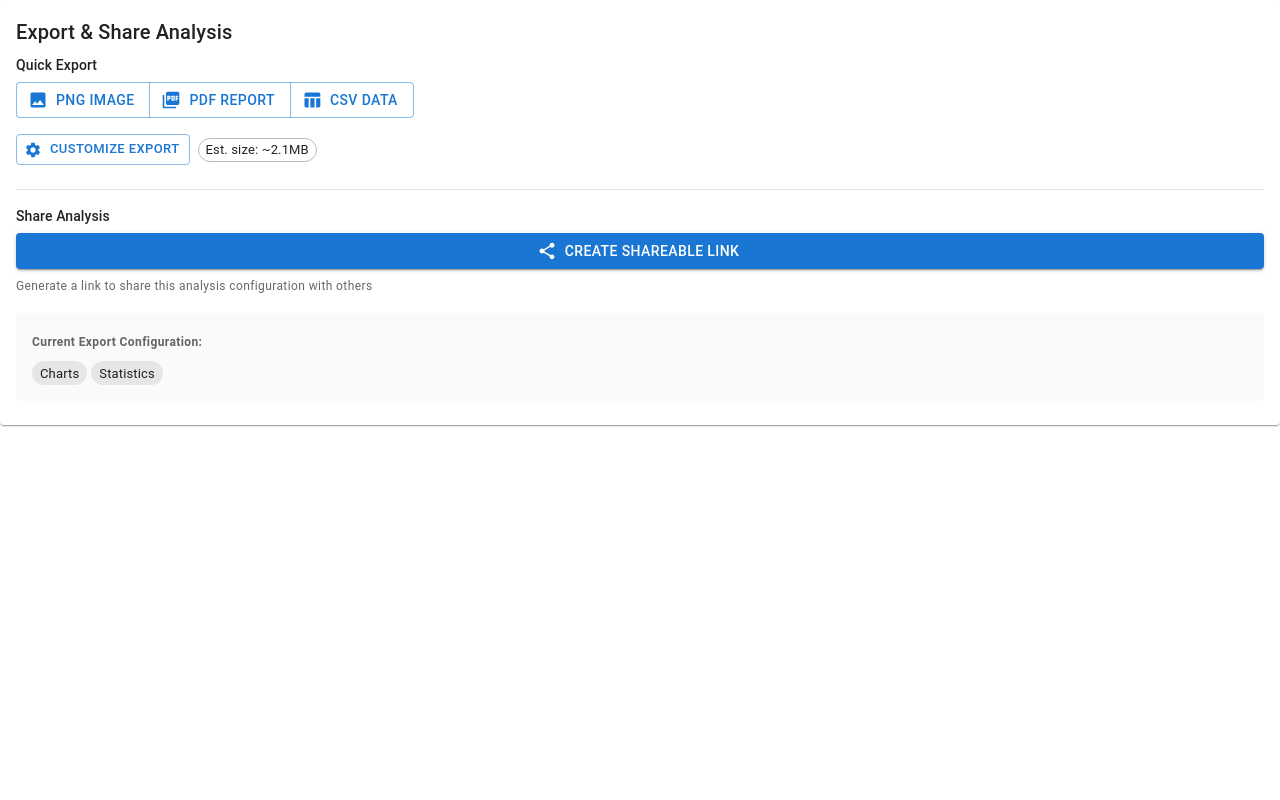
Scenario: ExportControls › should open customization dialog when customize button is clicked
The image size is (1280, 800).
Click the button "Customize Export".
click(103, 150)  # box x1=16 y1=134 x2=190 y2=165
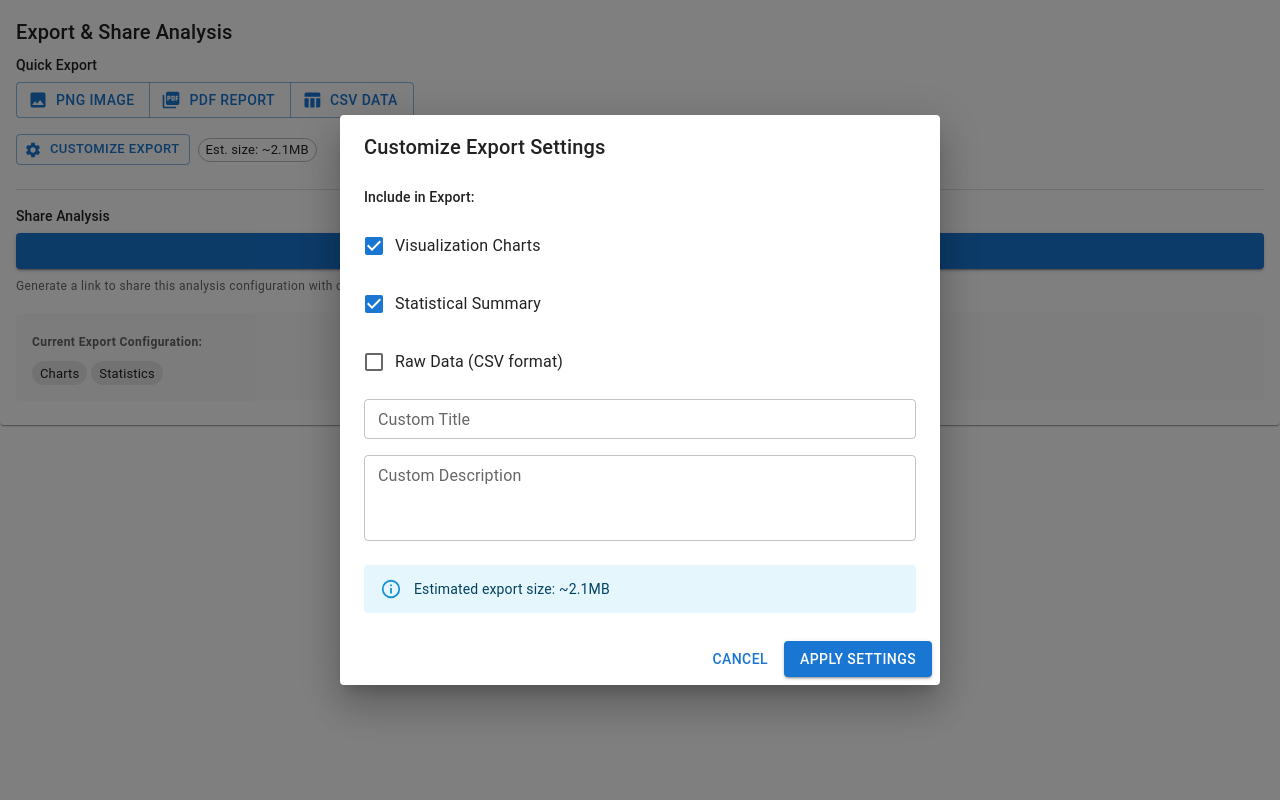
Expected: the heading "Customize Export Settings" is shown, x1=364 y1=135 x2=605 y2=159
